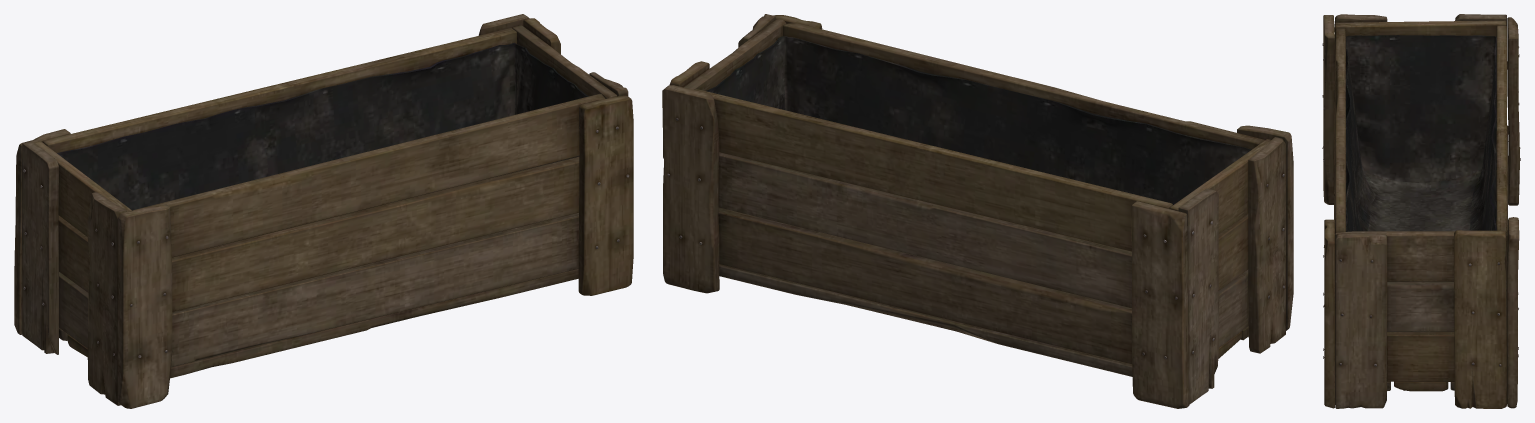
File: planter_box_02.glb
3 views of the same model, side by side, from view 1: azimuth 30°, elevation 25°; view 2: azimuth 150°, elevation 25°; view 3: azimuth 270°, elevation 25° (orthographic). The views are drawn at different scales.
Visible parts, largest first — view 1: planter_box_02; view 2: planter_box_02; view 3: planter_box_02.
Boxes of the visible parts, bbox=[...] form: planter_box_02: bbox=[14, 14, 633, 408]; planter_box_02: bbox=[662, 14, 1293, 408]; planter_box_02: bbox=[1322, 14, 1520, 408].
Bounding box in the file's own units: 1.25 × 0.4534 × 0.4673.
Materials: 1 (1 with a texture image).
